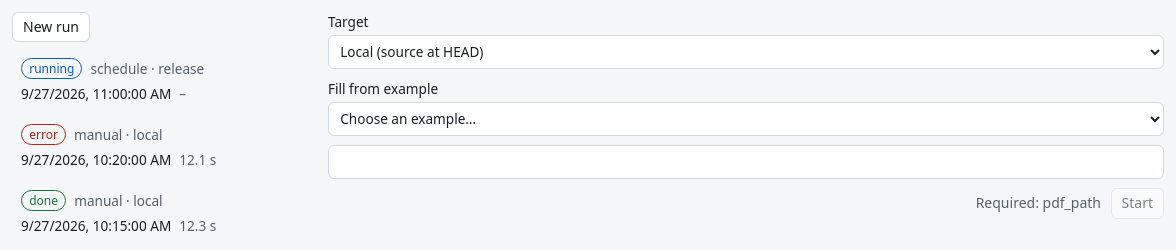
Scenario: RunForm › fill from example makes relative path inputs absolute against the process directory
Select "Example 1 → done: {\"pdf_path\":\"examples/acme_inv_1042.pdf\"}" in the dropdown labelled "Fill from example" at [746, 119], box left=328, top=102, right=1164, bottom=136
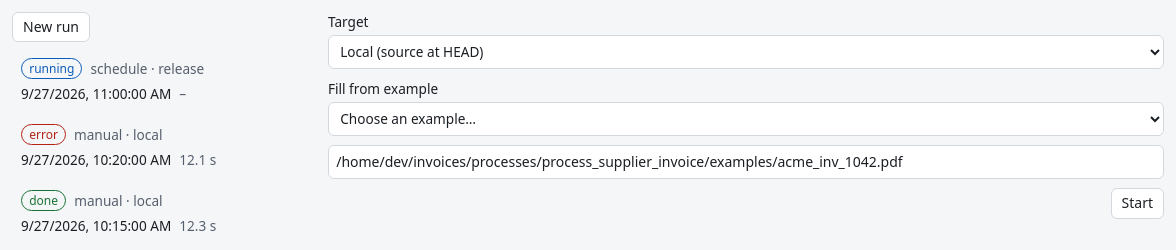
Now the field named "pdf_path" holds "/home/dev/invoices/processes/process_supplier_invoice/examples/acme_inv_1042.pdf", box left=328, top=145, right=1164, bottom=179
Now the button "Start" is enabled, box left=1111, top=188, right=1164, bottom=219
